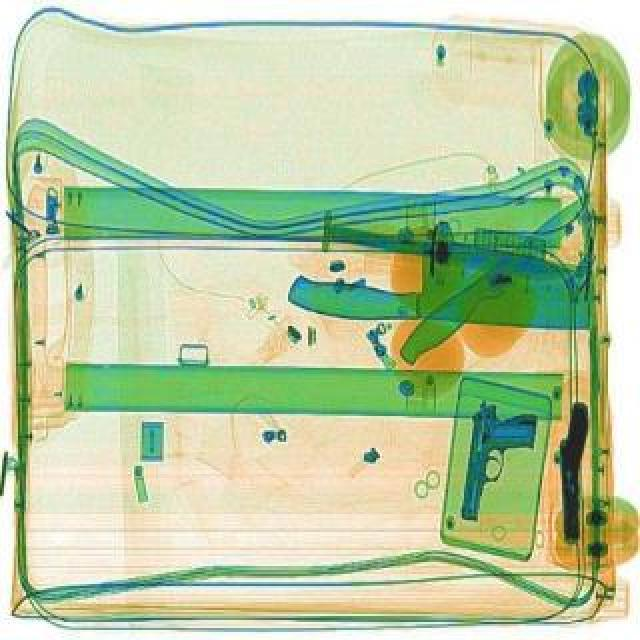gun: (458, 398, 542, 522), (552, 400, 592, 540)
knife: (392, 188, 608, 368), (288, 230, 600, 340), (328, 218, 576, 282)
